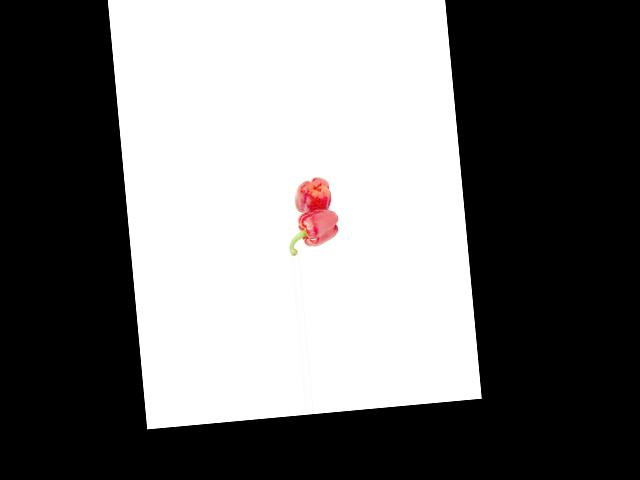bell_pepper: (290, 176, 334, 213)
